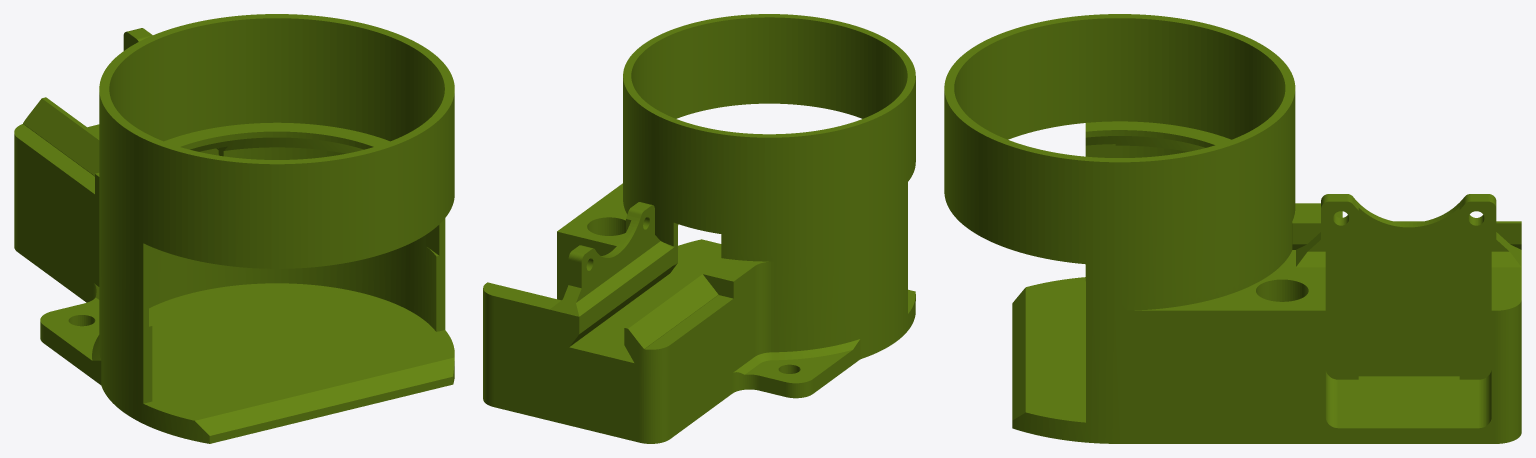
Rendered from dispenser__v0.glb.
3 renders of one model, left to right at view 1: azimuth 30°, elevation 25°; view 2: azimuth 150°, elevation 25°; view 3: azimuth 270°, elevation 25°, orthographic. The views are drawn at different scales.
Visible parts, largest first — view 1: dispenser; view 2: dispenser; view 3: dispenser.
Part boxes in pixels (left/top/right/bottom): dispenser: left=14, top=14, right=454, bottom=443; dispenser: left=483, top=14, right=915, bottom=443; dispenser: left=944, top=14, right=1521, bottom=443.
Bounding box in the file's own units: 0.0532 × 0.0471 × 0.0875.
